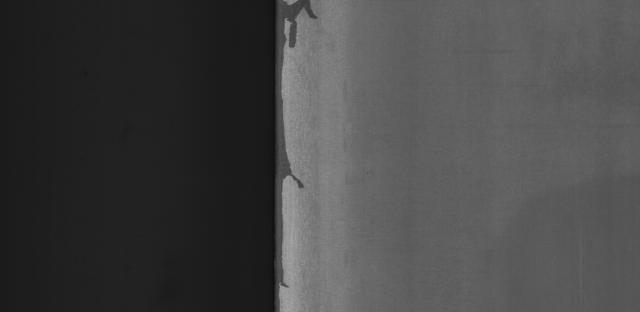water_spot: (266, 0, 331, 290)
